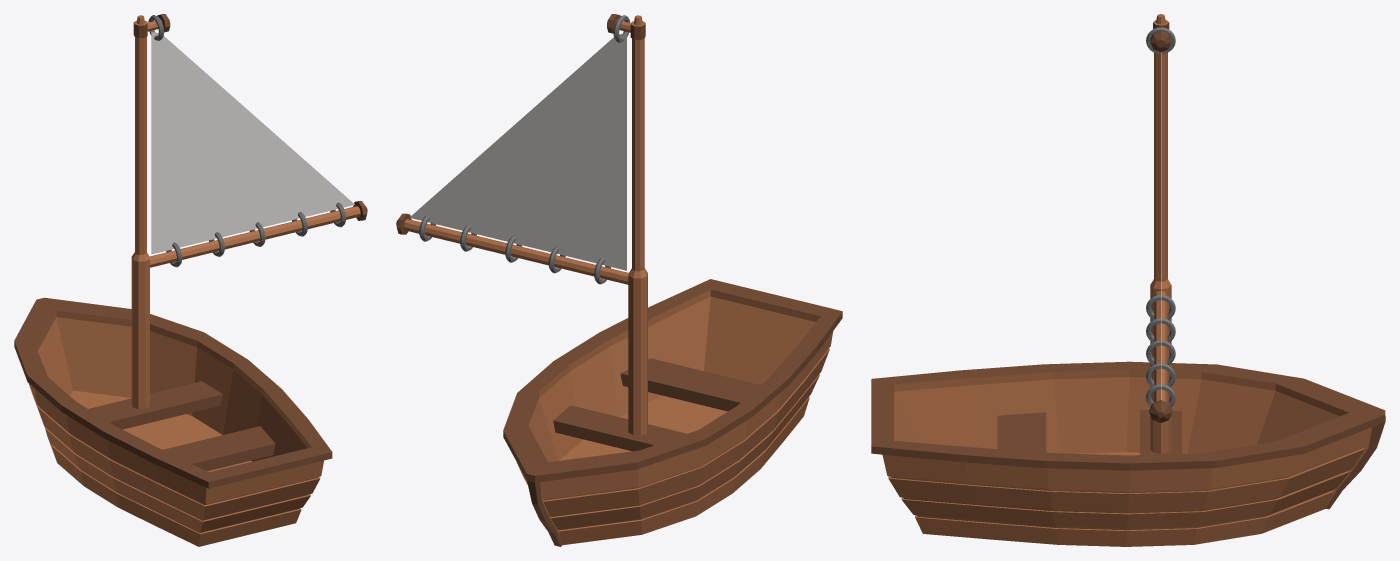
The model's file is boat.fbx.
The picture shows the model from 3 angles, left to right: view 1: azimuth 30°, elevation 25°; view 2: azimuth 150°, elevation 25°; view 3: azimuth 270°, elevation 25°; orthographic projection. The views are drawn at different scales.
Parts seen in each view (by area): view 1: Cube; view 2: Cube; view 3: Cube.
Part boxes in pixels (x1=…): Cube: x1=14, y1=14, x2=367, y2=546; Cube: x1=396, y1=14, x2=842, y2=546; Cube: x1=871, y1=14, x2=1385, y2=546.
Bounding box in the file's own units: 853 × 1128 × 1068.
